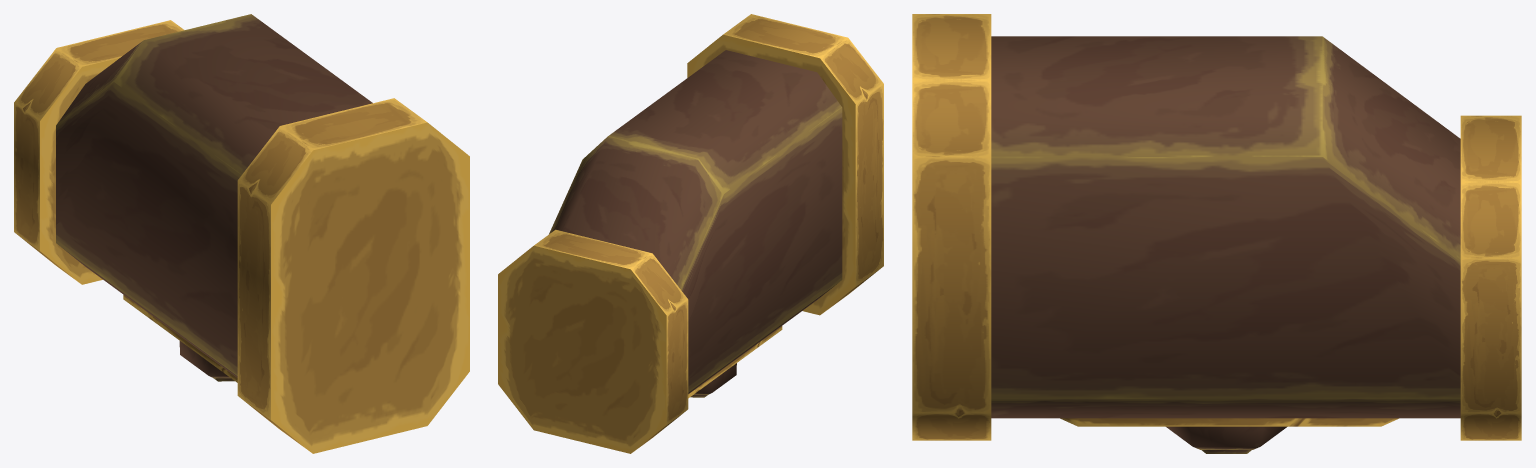
Rendered from SM_WEP_head_hammer_battle_22.fbx.
3 renders of one model, left to right at view 1: azimuth 30°, elevation 25°; view 2: azimuth 150°, elevation 25°; view 3: azimuth 270°, elevation 25°, orthographic. The views are drawn at different scales.
Visible parts, largest first — view 1: SM_WEP_head_hammer_battle_22; view 2: SM_WEP_head_hammer_battle_22; view 3: SM_WEP_head_hammer_battle_22.
Boxes of the visible parts, left/top/right/bottom form: SM_WEP_head_hammer_battle_22: left=14, top=14, right=469, bottom=453; SM_WEP_head_hammer_battle_22: left=498, top=14, right=883, bottom=453; SM_WEP_head_hammer_battle_22: left=912, top=14, right=1521, bottom=453.
Size of the model in its own units: 21.73 by 34.32 by 48.58.
